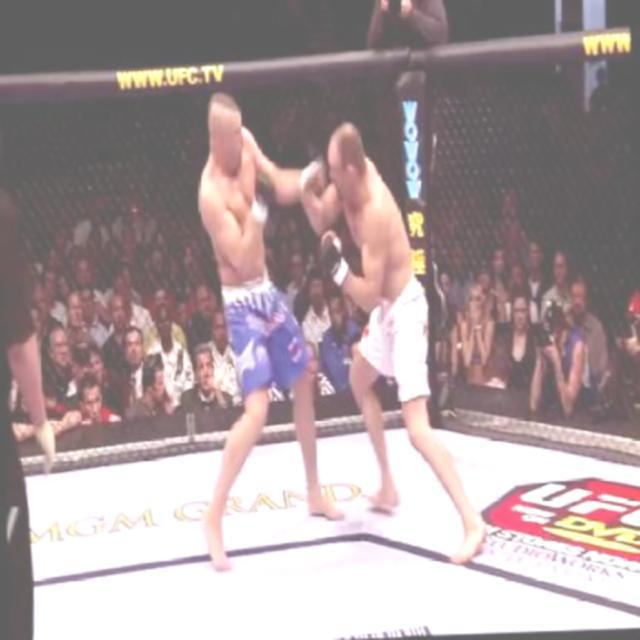fight: (191, 88, 487, 582)
